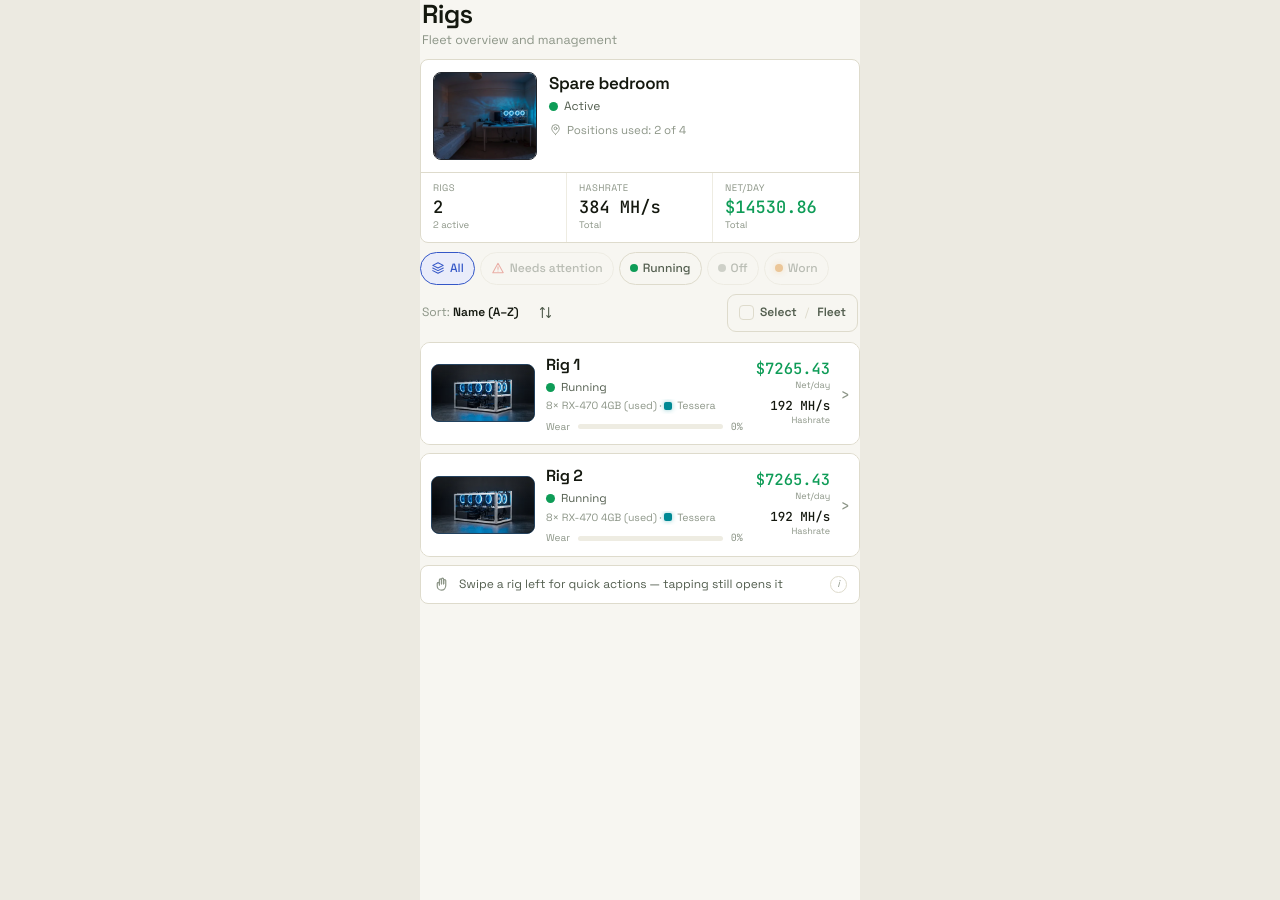
Test case: RigsView › the fleet actions sheet › quotes a repair against the rigs actually in scope
Click the button "Fleet" at (832, 313), box x1=811 y1=295 x2=852 y2=331
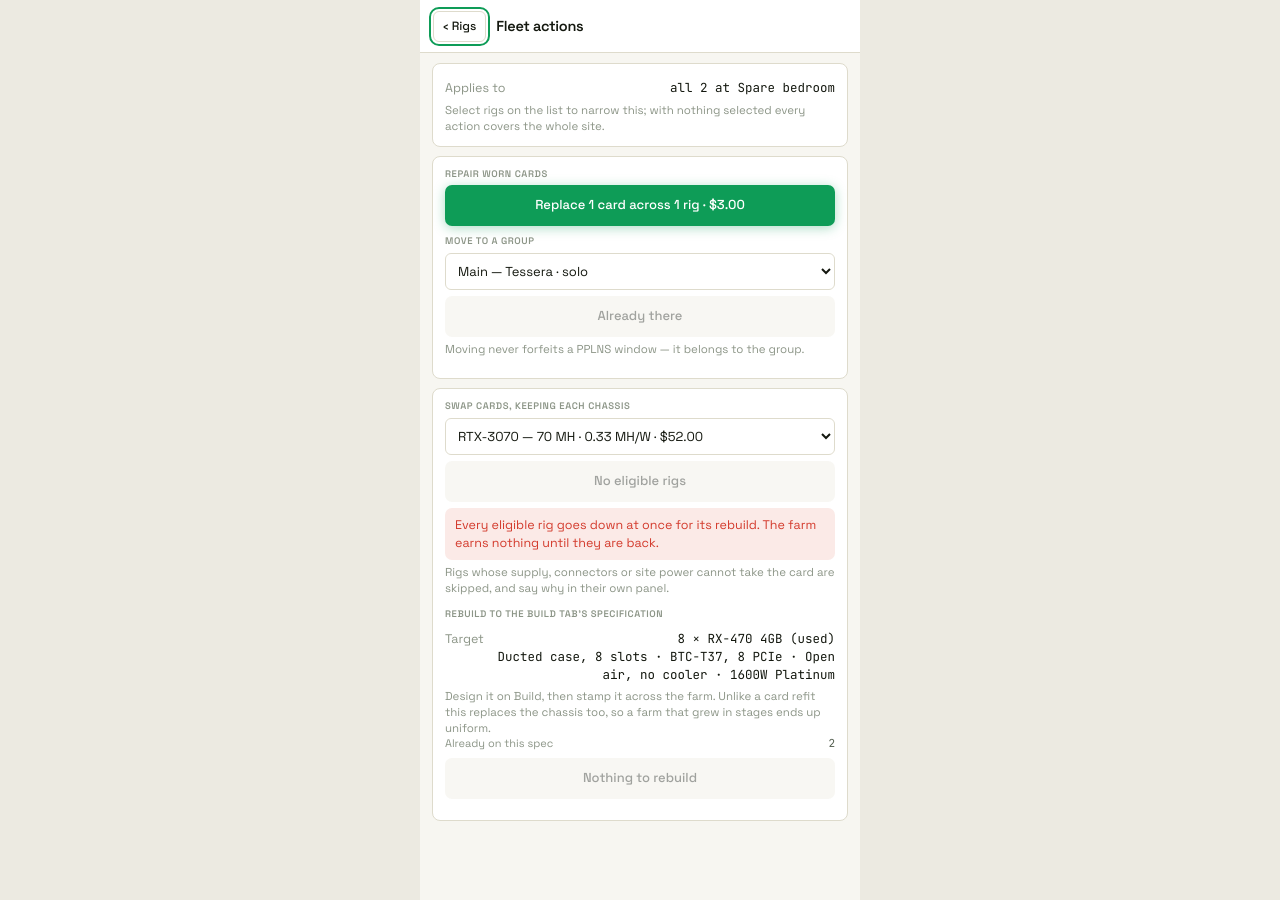
Result: the text "Replace 1 card across 1 rig" is shown at x1=445 y1=186 x2=835 y2=226
